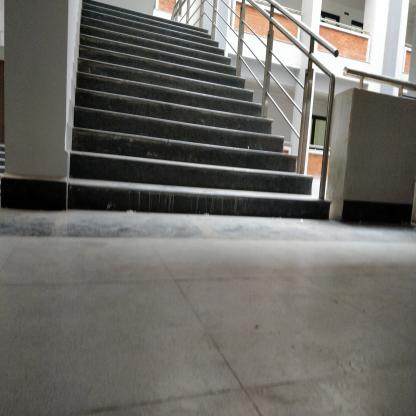stairs: (81, 29, 210, 221)
